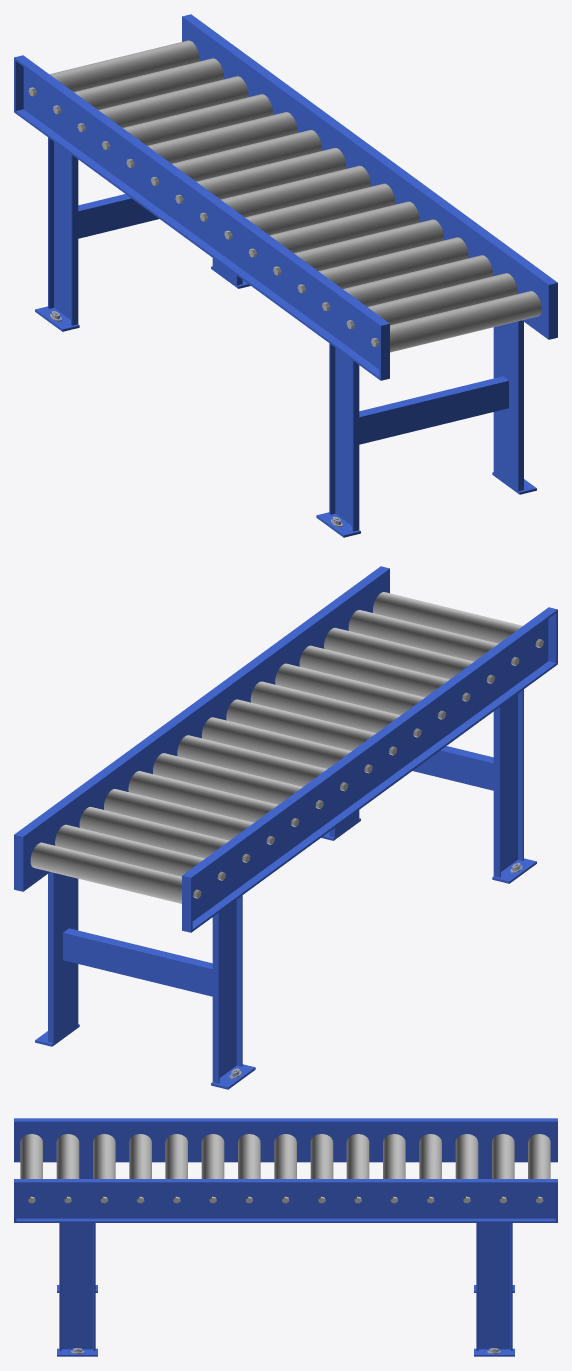
Rendered from convery_longer.dae.
3 renders of one model, top to bottom at view 1: azimuth 30°, elevation 25°; view 2: azimuth 150°, elevation 25°; view 3: azimuth 270°, elevation 25°, orthographic. The views are drawn at different scales.
Parts seen in each view (by area): view 1: ID26, ID124, ID166, ID160, ID50, ID32, ID1192, ID298, ID1264, ID244, ID1258, ID598 (+10 smaller); view 2: ID26, ID124, ID166, ID50, ID160, ID12, ID1534, PD_1st_Double_Conveyer, ID562, ID742, ID298, ID1258 (+10 smaller); view 3: ID118, ID166, ID26, ID934, ID358, ID298, ID244, ID38, ID1192, ID742, ID598, ID562 (+6 smaller).
Part boxes in pixels (bbox=[...]): ID26: bbox=[182, 14, 557, 494]; ID124: bbox=[15, 61, 379, 376]; ID166: bbox=[14, 55, 389, 380]; ID160: bbox=[316, 343, 360, 537]; ID50: bbox=[35, 137, 79, 331]; ID32: bbox=[359, 376, 508, 444]; ID1192: bbox=[390, 291, 541, 352]; ID298: bbox=[172, 130, 321, 181]; ID1264: bbox=[123, 94, 272, 145]; ID244: bbox=[270, 201, 419, 252]; ID1258: bbox=[74, 58, 223, 109]; ID598: bbox=[318, 237, 468, 288]; ID26: bbox=[14, 566, 389, 1046]; ID124: bbox=[192, 613, 556, 928]; ID166: bbox=[182, 607, 557, 932]; ID50: bbox=[211, 895, 255, 1089]; ID160: bbox=[492, 689, 536, 883]; ID12: bbox=[63, 928, 212, 996]; ID1534: bbox=[31, 842, 181, 903]; PD_1st_Double_Conveyer: bbox=[275, 663, 424, 715]; ID562: bbox=[226, 699, 375, 750]; ID742: bbox=[202, 717, 351, 768]; ID298: bbox=[153, 753, 302, 804]; ID1258: bbox=[55, 824, 204, 876]; ID118: bbox=[16, 1184, 555, 1221]; ID166: bbox=[14, 1118, 557, 1162]; ID26: bbox=[14, 1179, 557, 1356]; ID934: bbox=[310, 1134, 333, 1178]; ID358: bbox=[455, 1134, 478, 1178]; ID298: bbox=[346, 1134, 369, 1178]; ID244: bbox=[201, 1134, 224, 1178]; ID38: bbox=[56, 1134, 79, 1178]; ID1192: bbox=[20, 1134, 42, 1178]; ID742: bbox=[274, 1134, 296, 1178]; ID598: bbox=[129, 1134, 151, 1178]; ID562: bbox=[238, 1134, 260, 1178].
Size of the model in its own units: 22.08 by 72.65 by 25.25.
